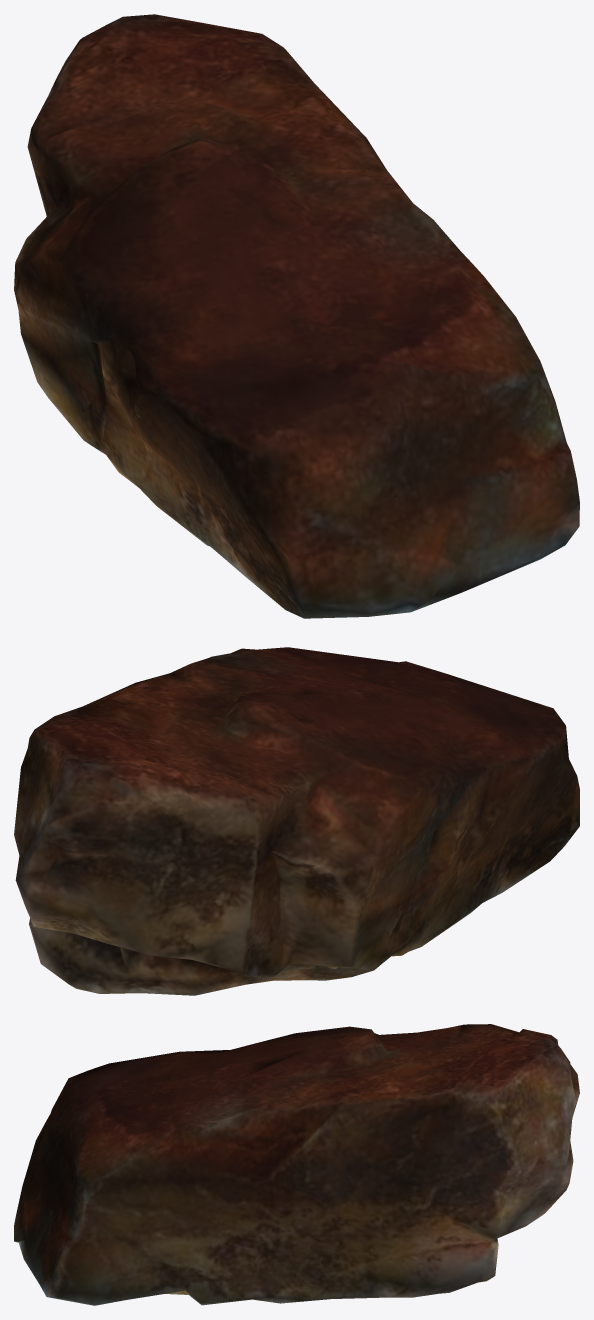
The model's file is rock_07.glb.
3 views of the same model, one above another, from view 1: azimuth 30°, elevation 25°; view 2: azimuth 150°, elevation 25°; view 3: azimuth 270°, elevation 25° (orthographic). The views are drawn at different scales.
Visible parts, largest first — view 1: rock_07; view 2: rock_07; view 3: rock_07.
Boxes of the visible parts, x1,y1,x2,y2 form: rock_07: [14, 14, 579, 618]; rock_07: [14, 647, 579, 995]; rock_07: [14, 1024, 579, 1305].
Size of the model in its own units: 0.167 by 0.1437 by 0.3194.
Materials: 1 (1 with a texture image).
